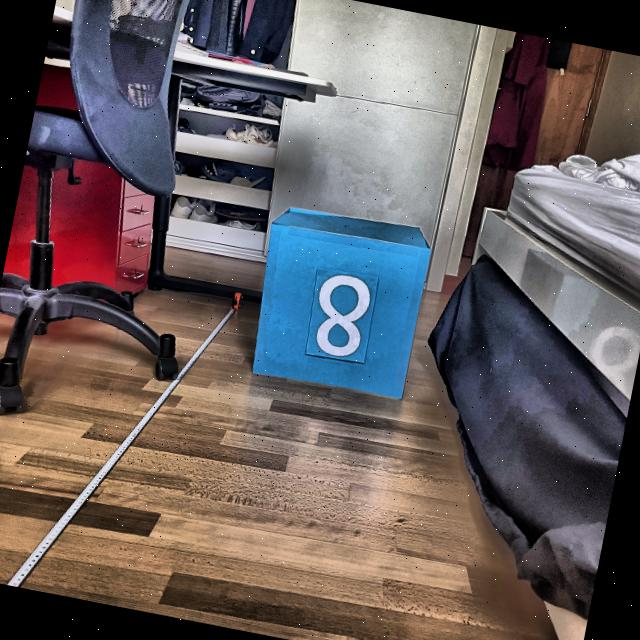blue box: (238, 197, 441, 406)
eight: (305, 268, 379, 364)
